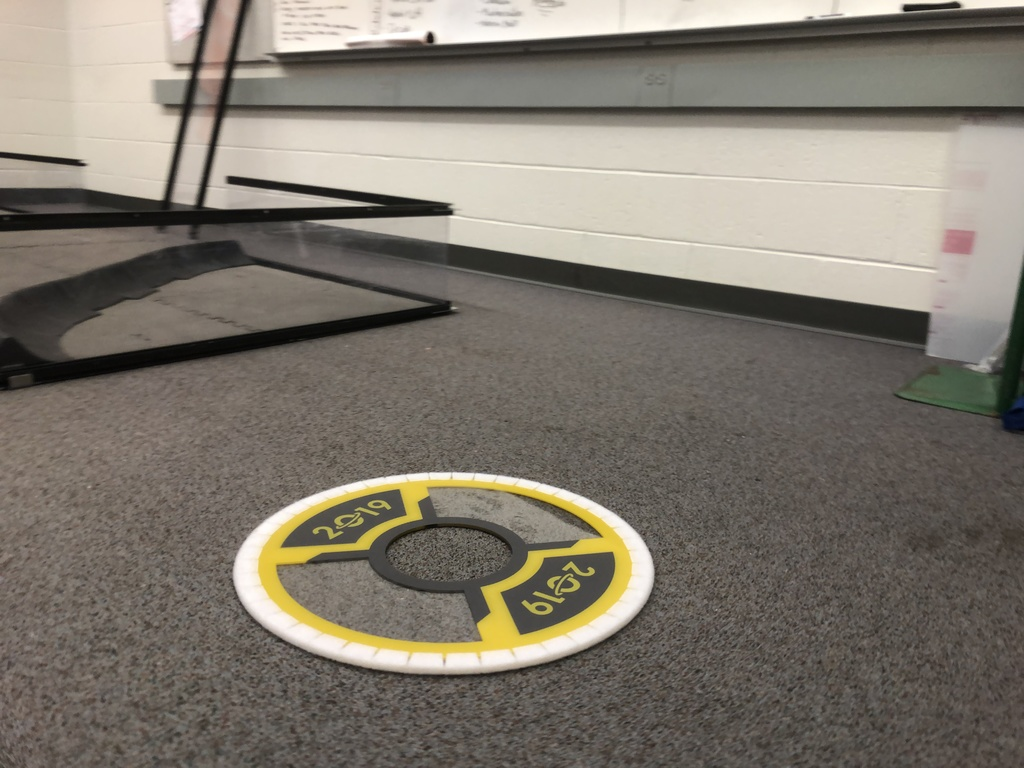hatch_panel: (216, 454, 689, 683)
